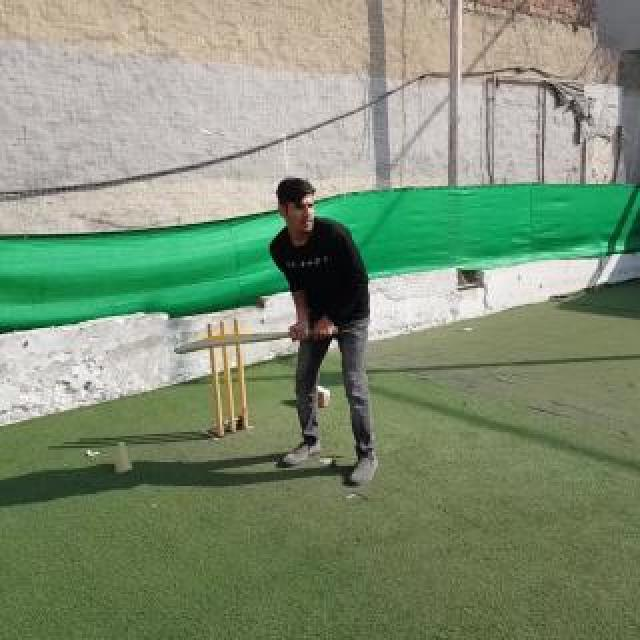bat: (174, 326, 338, 354)
